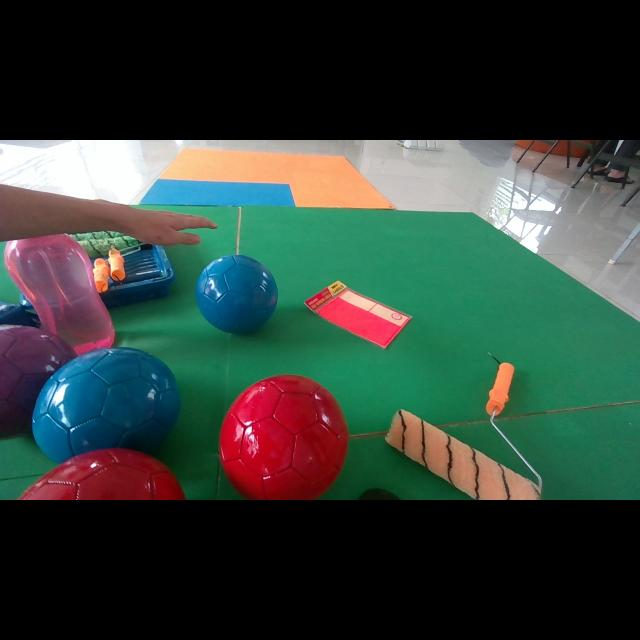B: (32, 348, 180, 462), (195, 255, 278, 333)
P: (0, 326, 76, 436)
R: (220, 375, 349, 499), (19, 449, 185, 500)
